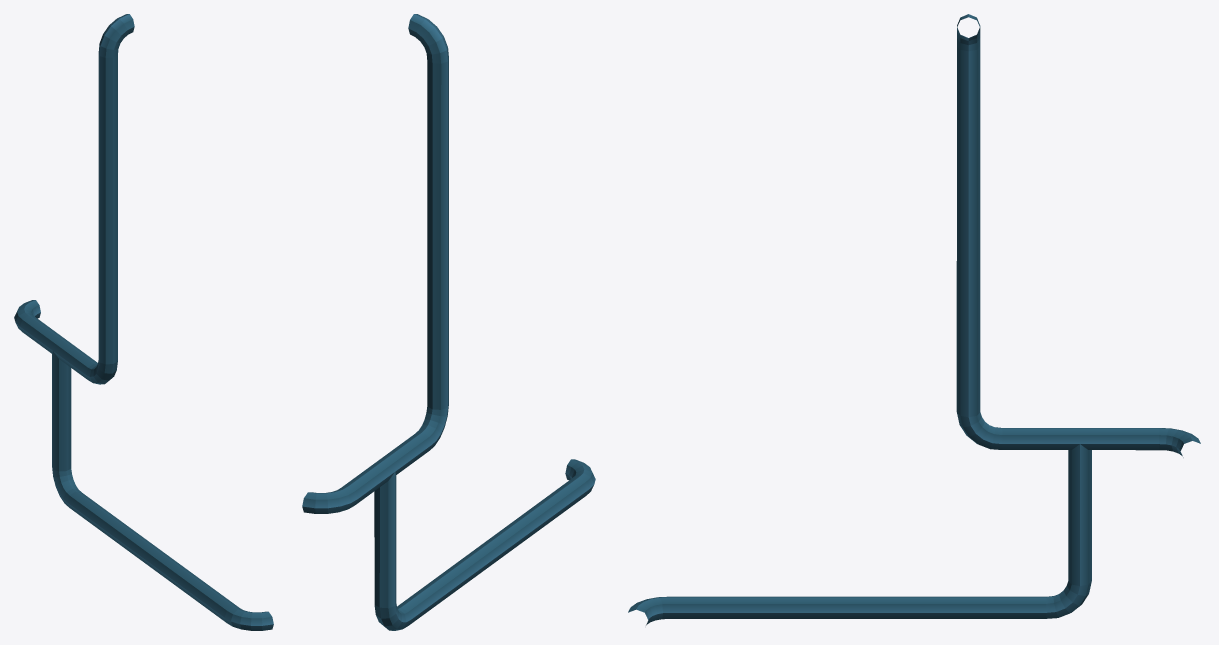
The model's file is PipesNight.glb.
3 views of the same model, side by side, from view 1: azimuth 30°, elevation 25°; view 2: azimuth 150°, elevation 25°; view 3: azimuth 270°, elevation 25° (orthographic). The views are drawn at different scales.
Parts seen in each view (by area): view 1: PipesNight; view 2: PipesNight; view 3: PipesNight.
Part boxes in pixels (<box>): PipesNight: <box>14,14,273,630</box>; PipesNight: <box>302,14,595,630</box>; PipesNight: <box>628,14,1200,625</box>.
Bounding box in the file's own units: 0.4164 × 6.77 × 5.8.
